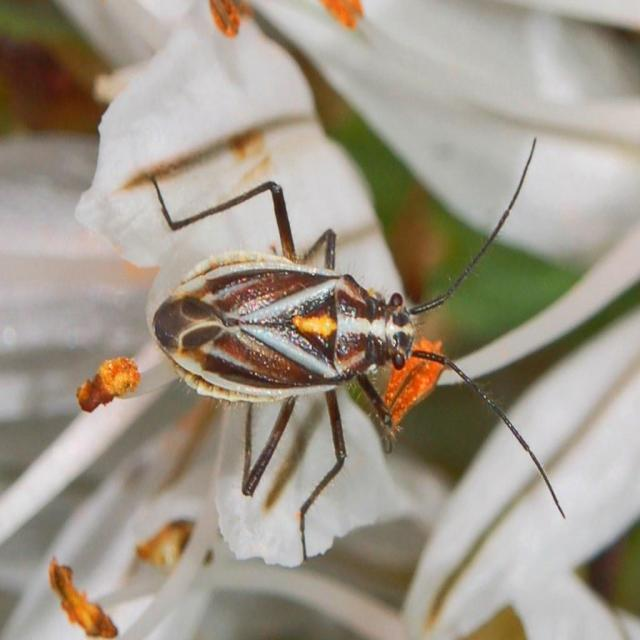Miridae-Adult-: (129, 143, 546, 496)
